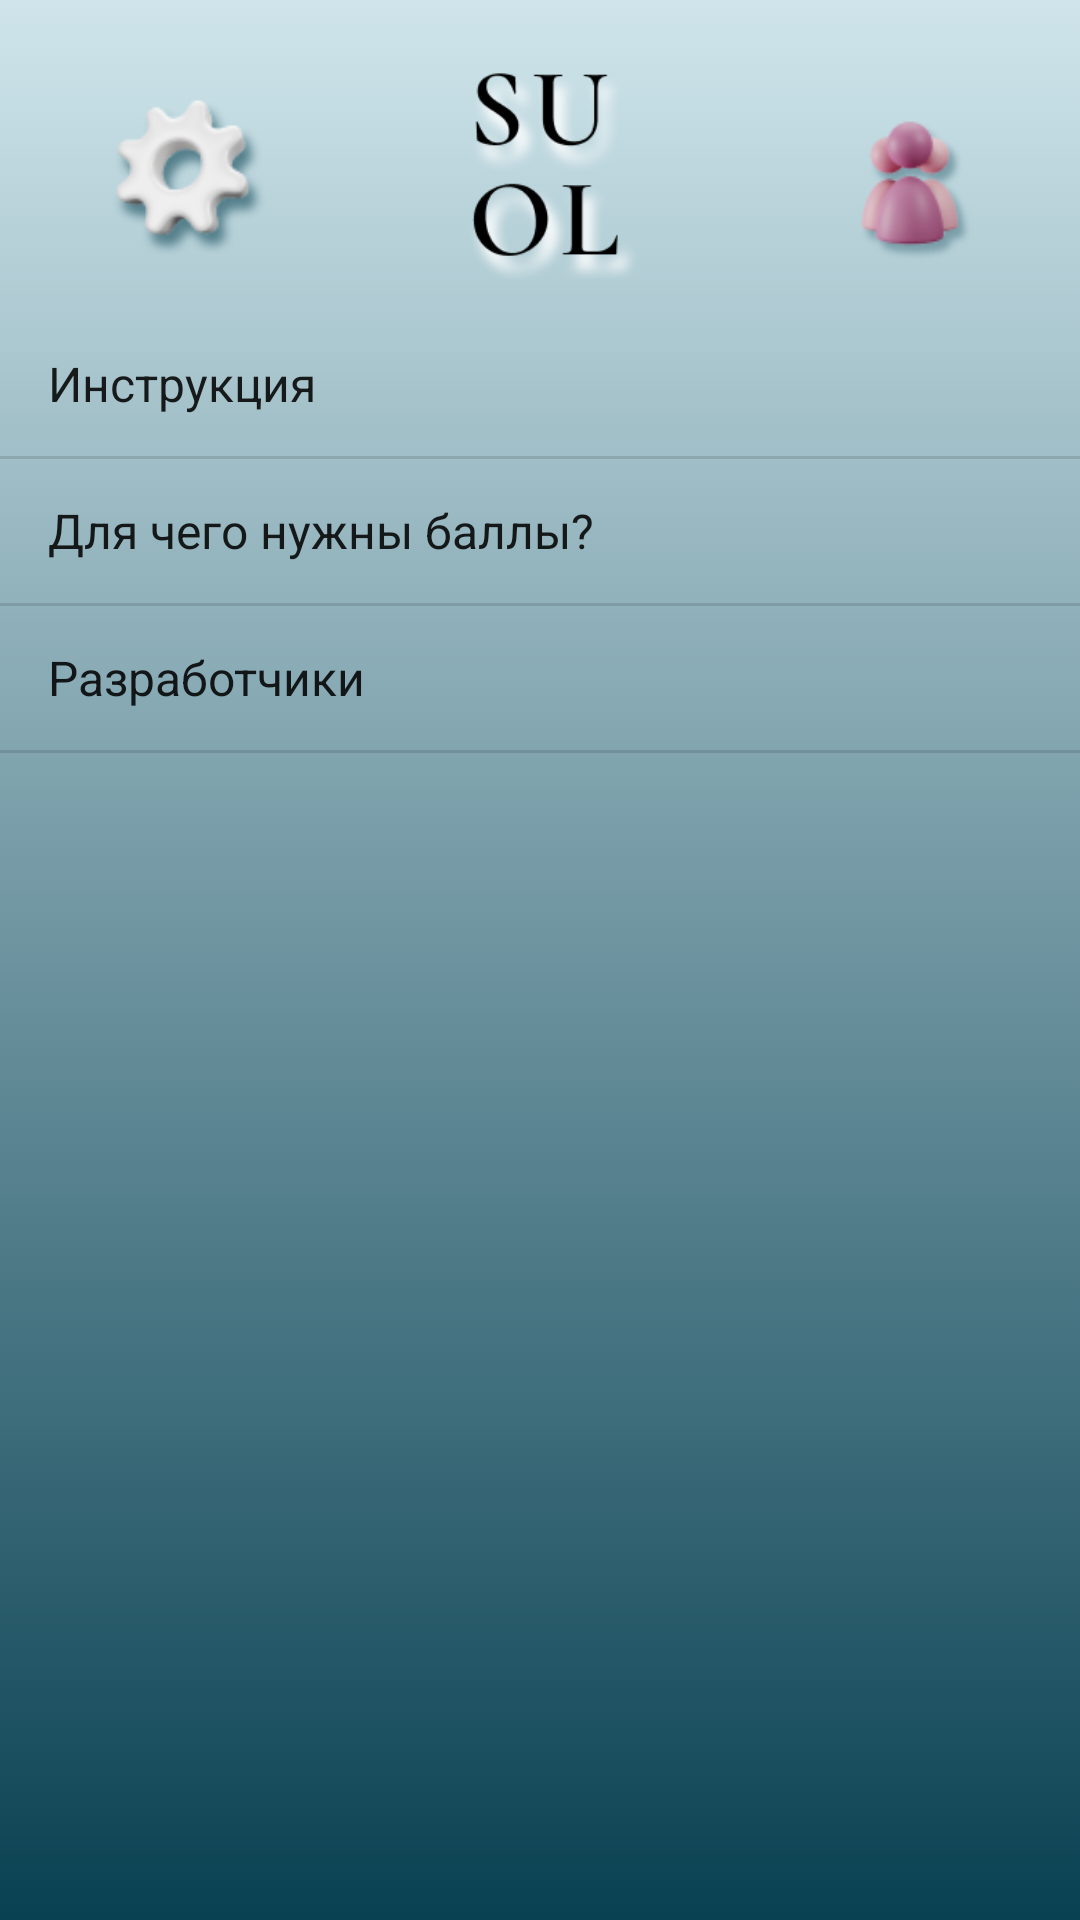

Where icons sit on this 1080×1920 app screen, as [left=x1, top=y1, right=x2, bottom=y2]:
account: [left=862, top=122, right=968, bottom=257]
setting: [left=117, top=100, right=257, bottom=248]
